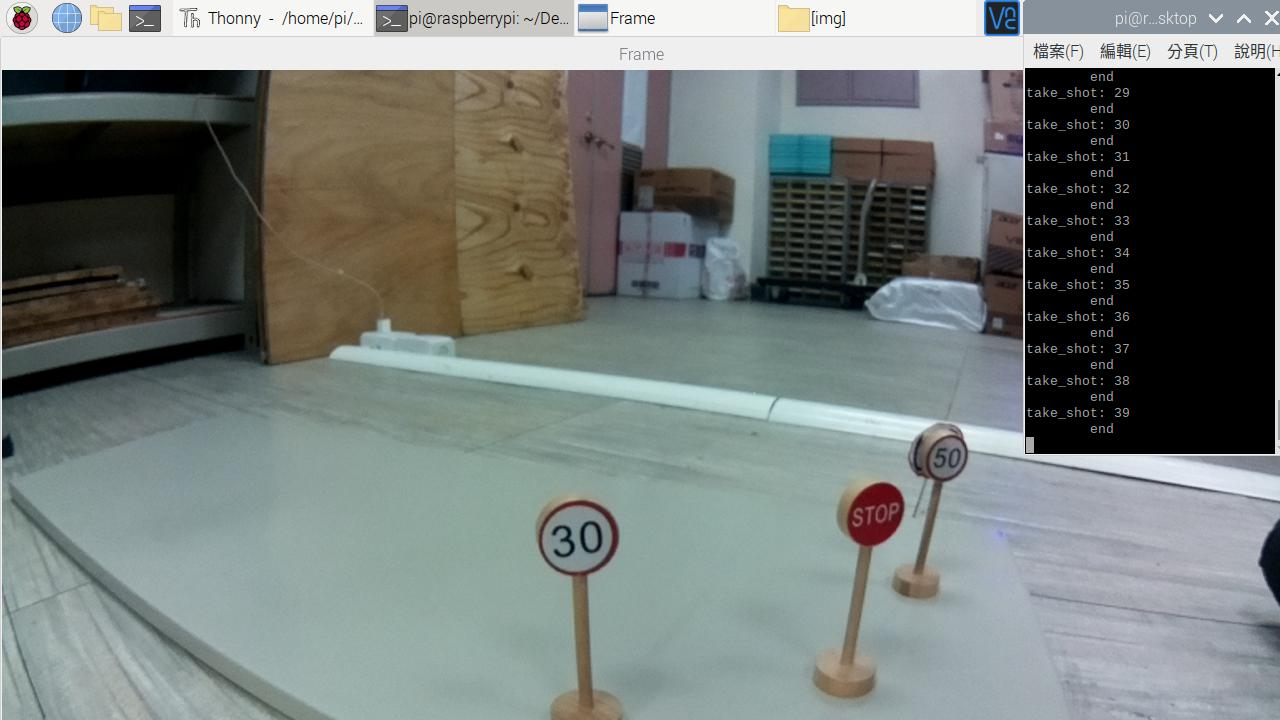Speed30: (538, 512, 616, 573)
Speed50: (928, 431, 967, 481)
Stop: (840, 483, 909, 544)
